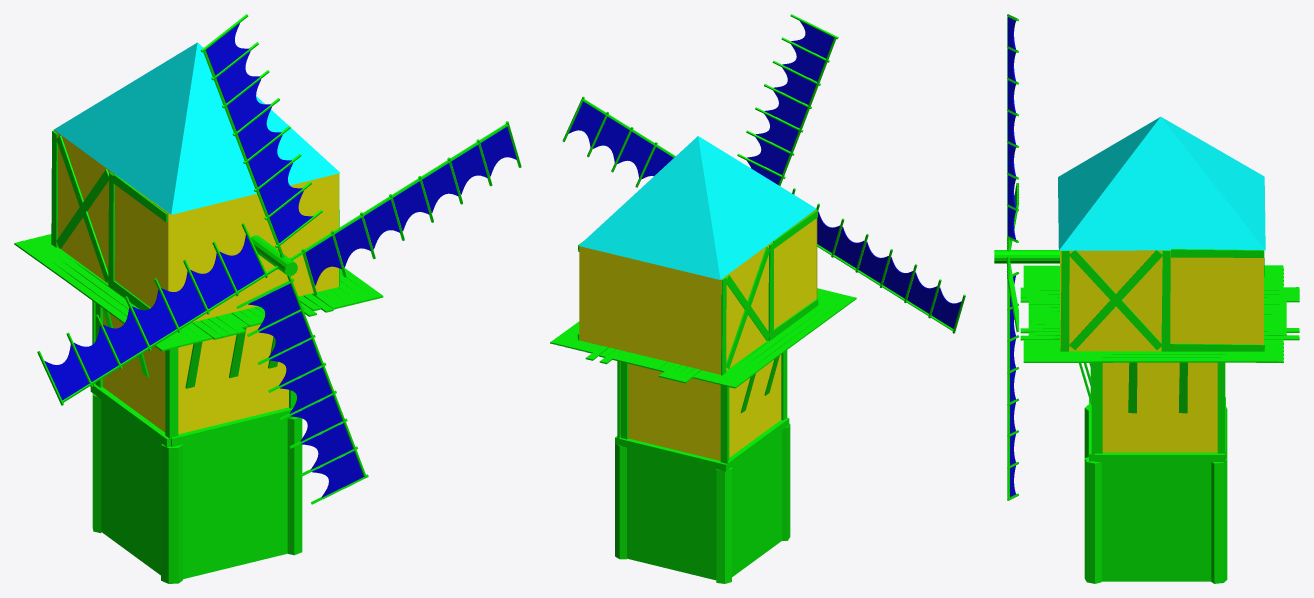
The model's file is Alam_Valencia.FBX.
3 views of the same model, side by side, from view 1: azimuth 30°, elevation 25°; view 2: azimuth 150°, elevation 25°; view 3: azimuth 270°, elevation 25° (orthographic). The views are drawn at different scales.
Visible parts, largest first — view 1: Molino; view 2: Molino; view 3: Molino.
Part boxes in pixels (<box>): Molino: <box>14,14,521,583</box>; Molino: <box>550,14,965,583</box>; Molino: <box>994,14,1299,583</box>.
Size of the model in its own units: 442 by 515 by 273.
